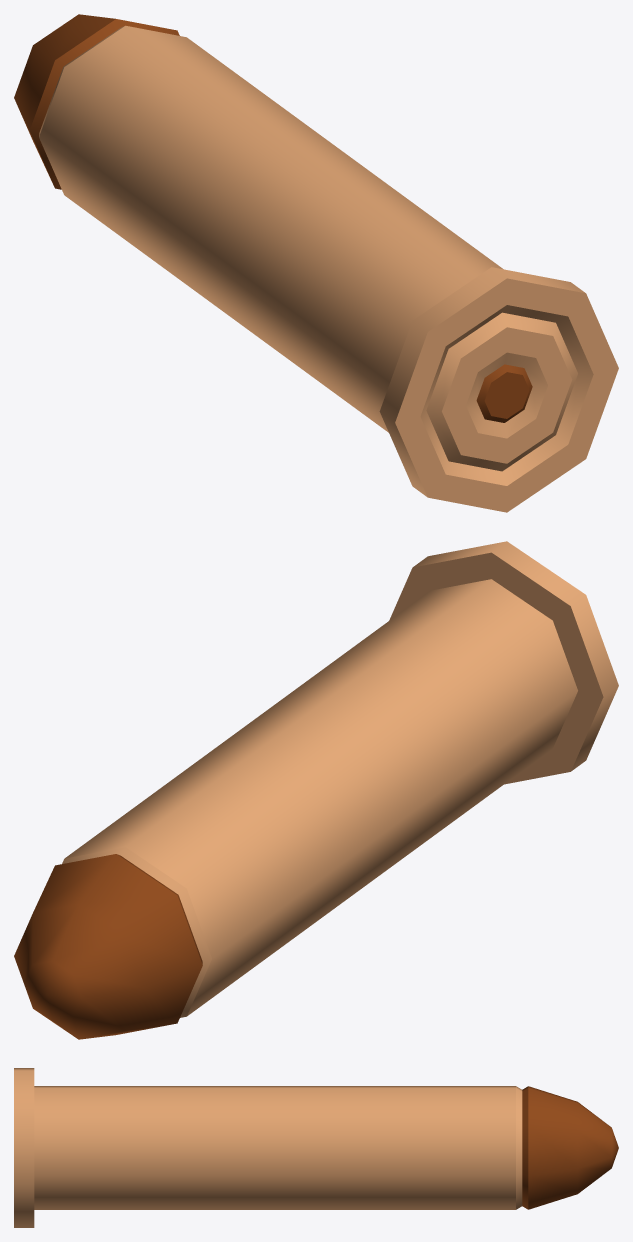
The model's file is bullet.fbx.
The picture shows the model from 3 angles, top to bottom: view 1: azimuth 30°, elevation 25°; view 2: azimuth 150°, elevation 25°; view 3: azimuth 270°, elevation 25°; orthographic projection. The views are drawn at different scales.
Parts seen in each view (by area): view 1: pCylinder1; view 2: pCylinder1; view 3: pCylinder1.
Part boxes in pixels (box(x1,y1,x2,y2)): pCylinder1: box(14, 14, 618, 512); pCylinder1: box(14, 541, 618, 1039); pCylinder1: box(14, 1068, 618, 1227).
Size of the model in its own units: 0.6556 by 0.6556 by 2.33.
